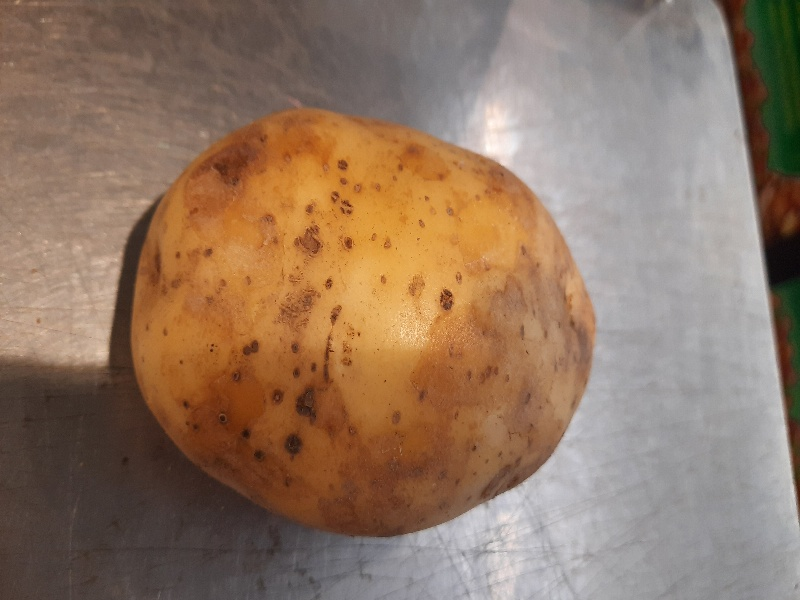vege: (118, 102, 600, 544)
